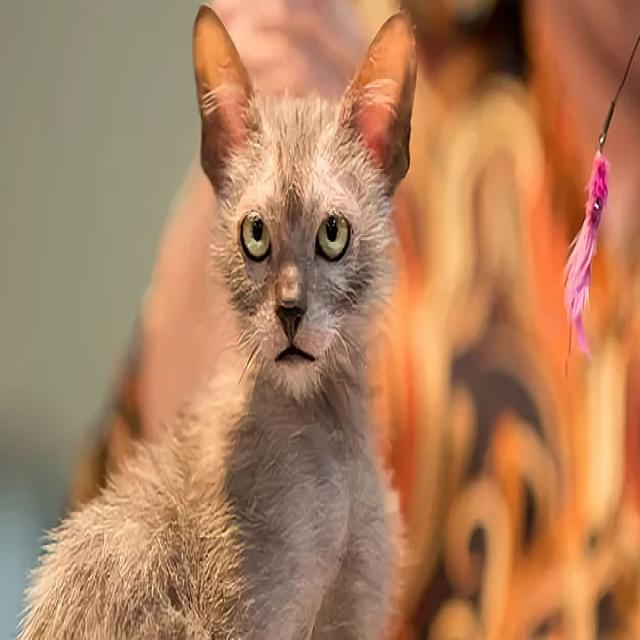Lykoi: (11, 0, 423, 640)
